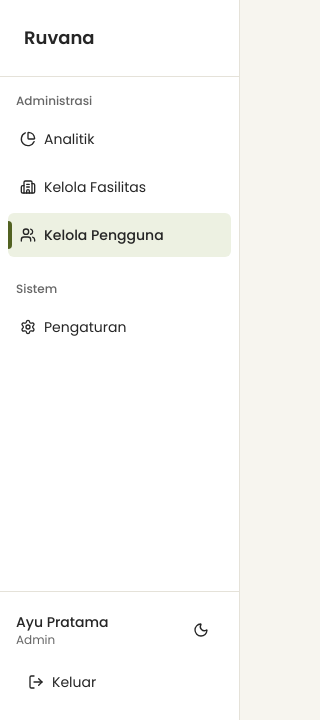
Test: AdminSidebar › menampilkan kegagalan logout sebagai alert yang dapat dikenali
The image size is (320, 720).
Click the button "Keluar".
click(120, 682)  # box [16,660,223,704]
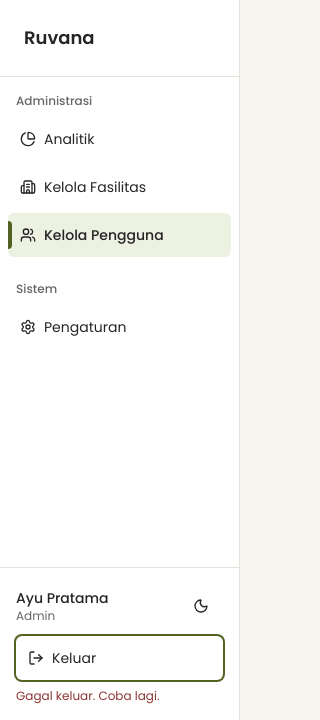
Now the message reads "Gagal keluar. Coba lagi.", box [16,687,159,704]
